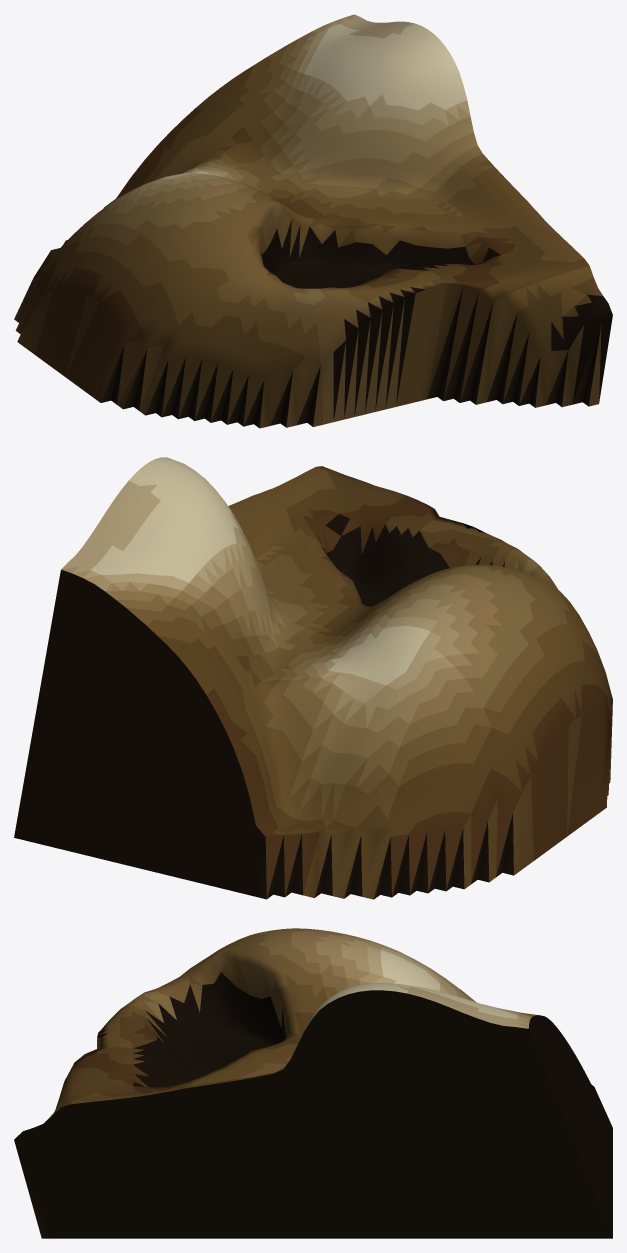
The model's file is nose_tip_left.glb.
3 views of the same model, one above another, from view 1: azimuth 30°, elevation 25°; view 2: azimuth 150°, elevation 25°; view 3: azimuth 270°, elevation 25° (orthographic). The views are drawn at different scales.
Visible parts, largest first — view 1: nose_tip_left; view 2: nose_tip_left; view 3: nose_tip_left.
Boxes of the visible parts, left/top/right/bottom form: nose_tip_left: left=14, top=14, right=612, bottom=428; nose_tip_left: left=14, top=457, right=612, bottom=899; nose_tip_left: left=14, top=928, right=612, bottom=1238.
Bounding box in the file's own units: 18 × 11.51 × 25.17.
